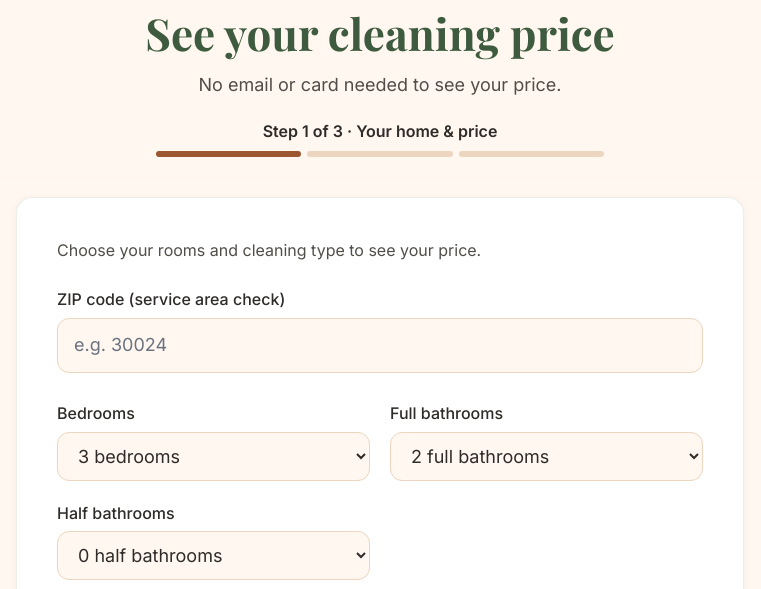
V5: frequency is explicit and Services preselection flows into the total (visual report) › a one-time clean from Services shows the one-time total under the ZIP
Type "30024" into the field labelled "ZIP code (service area check)" at (380, 345), box [57,318,703,373]
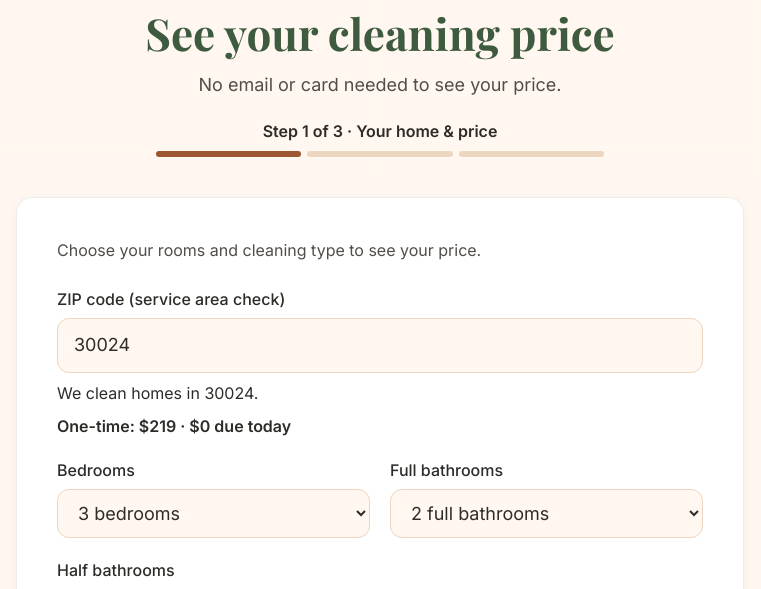
Check: the text "One-time: $219 · $0 due today" is shown, box [57,416,291,436]
